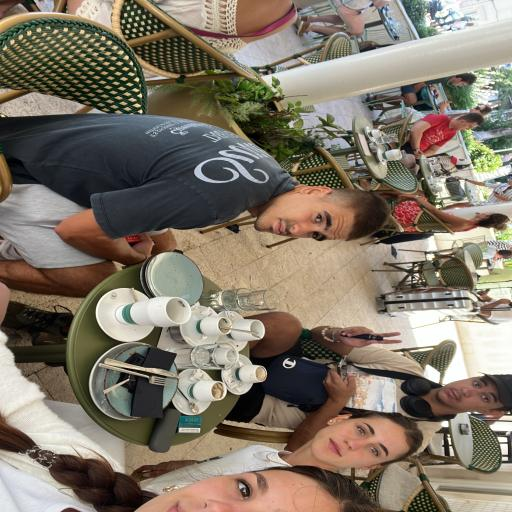masa: (268, 389, 430, 475)
